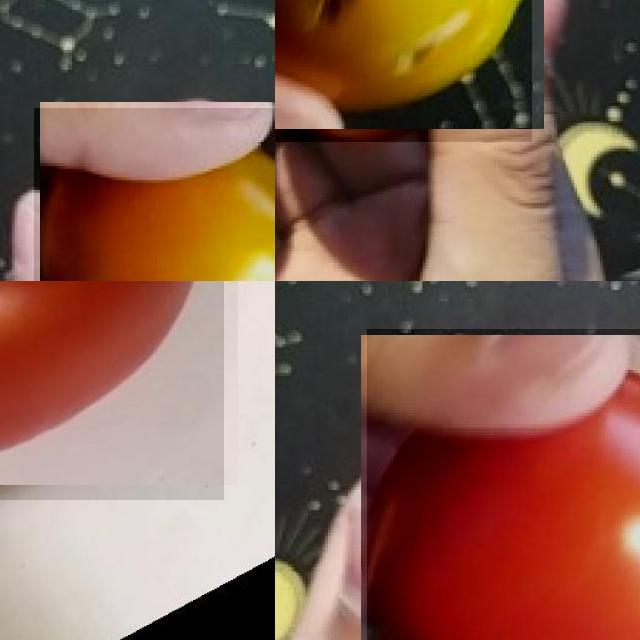Fresh Tomato: (366, 329, 640, 640), (0, 281, 223, 500)
Rotten Tomato: (33, 107, 275, 281), (275, 0, 531, 141)
